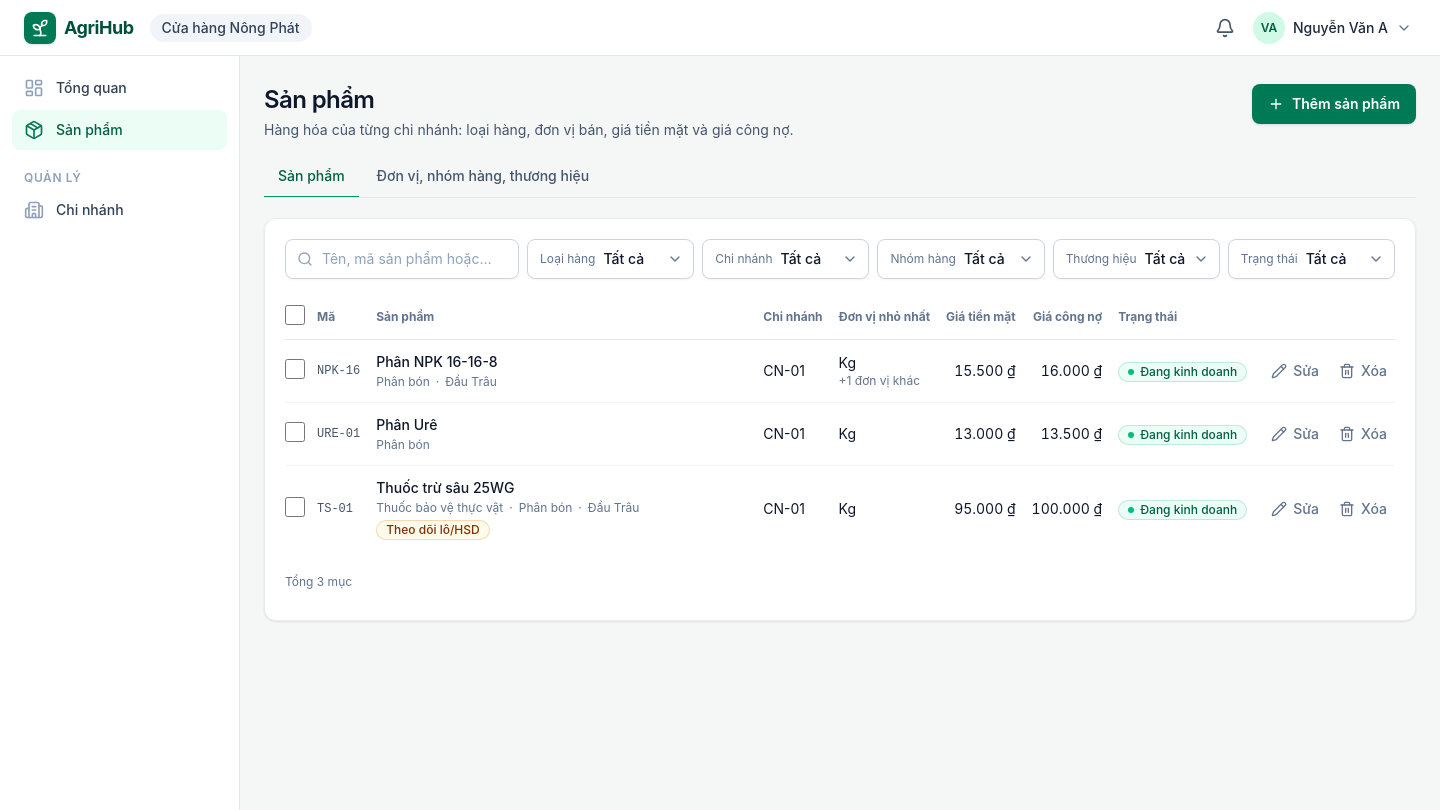
Test: danh sách sản phẩm › sao chép sang chi nhánh khác: gửi mã sản phẩm đã chọn và báo mã bị bỏ qua
Click the checkbox named "Chọn Phân NPK 16-16-8".
click(295, 368)  # box [285,358,305,378]
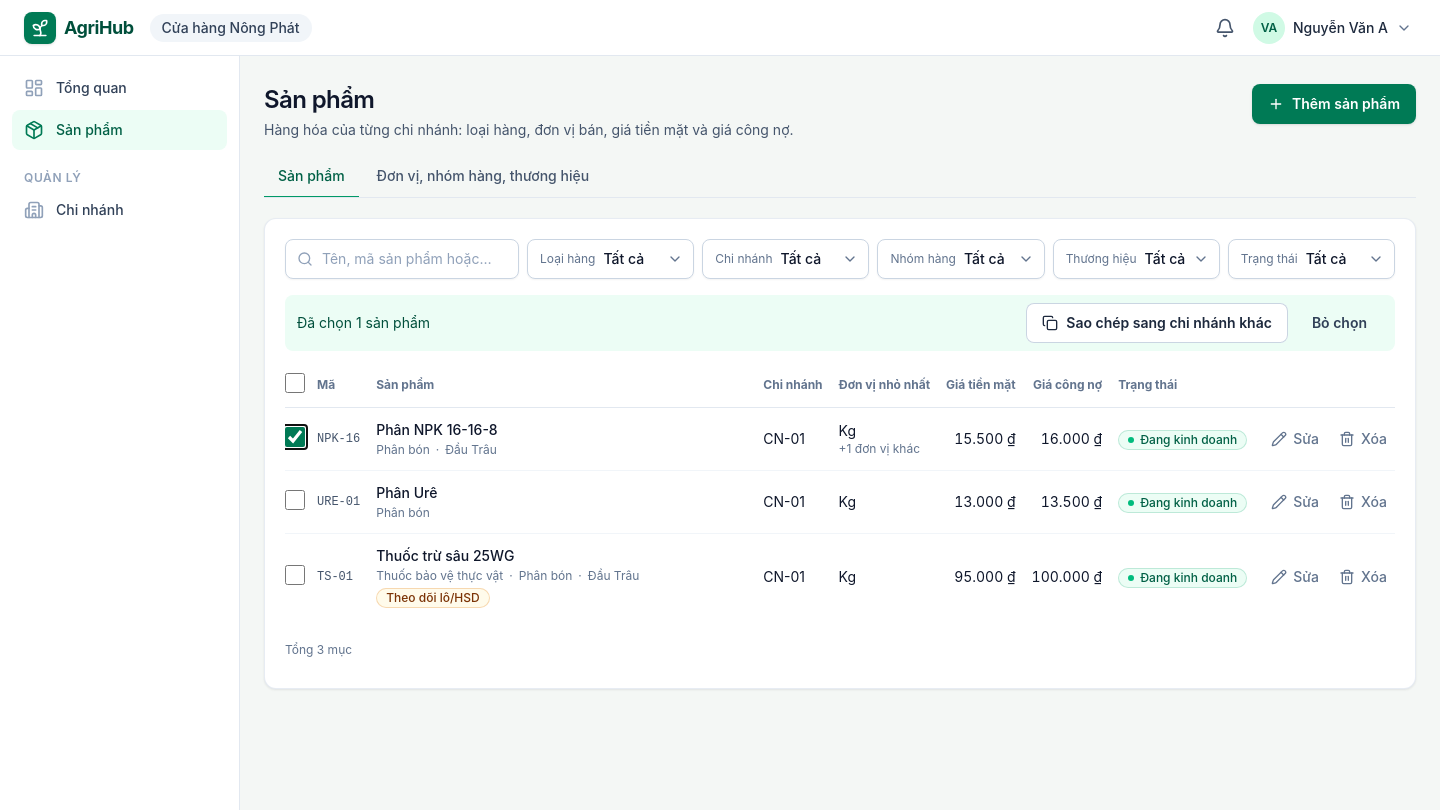
Click the checkbox named "Chọn Phân Urê".
click(295, 500)  # box [285,490,305,510]
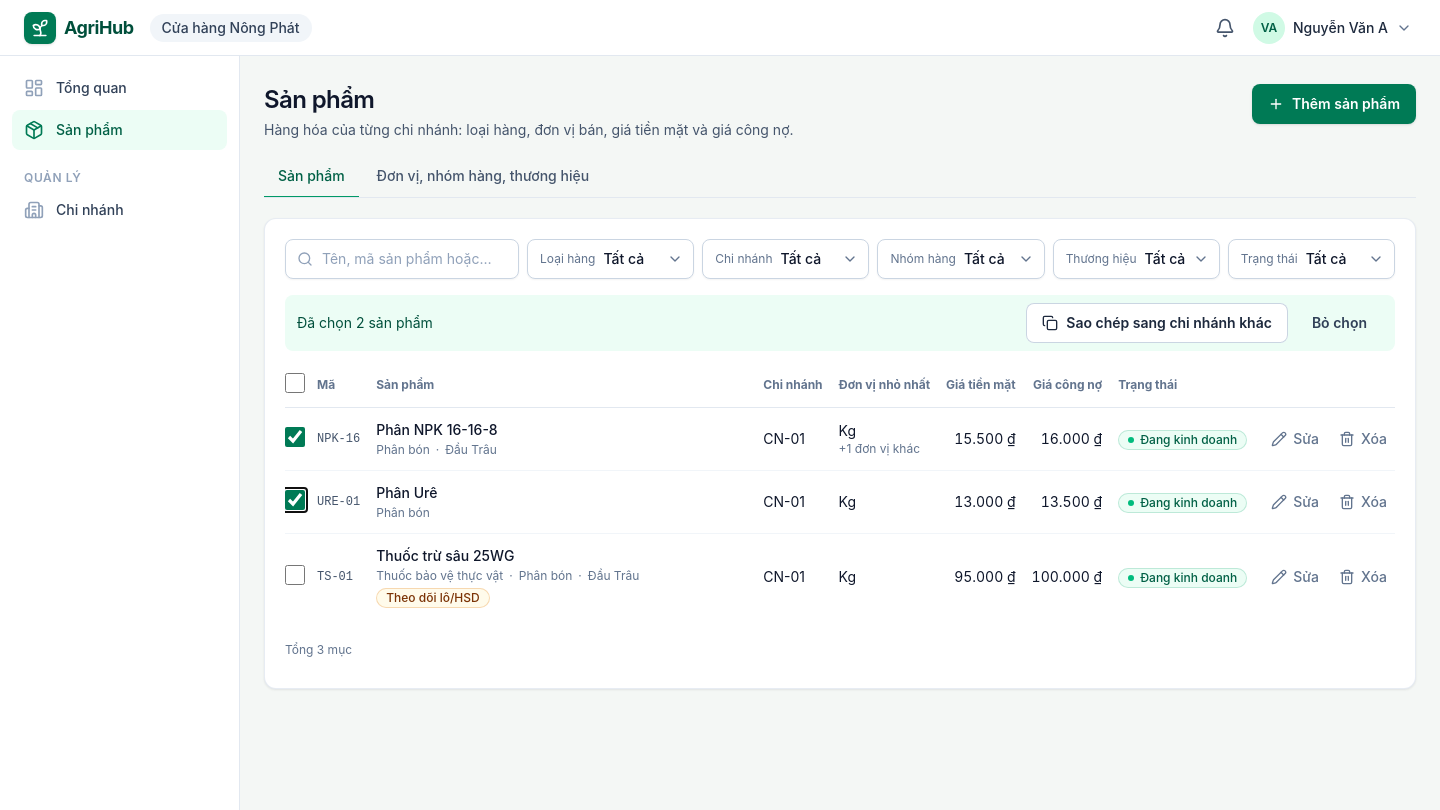
Now the text "Đã chọn 2 sản phẩm" is shown, box [297,313,433,333]
Click the button "Sao chép sang chi nhánh khác".
click(1157, 323)  # box [1026,303,1288,343]
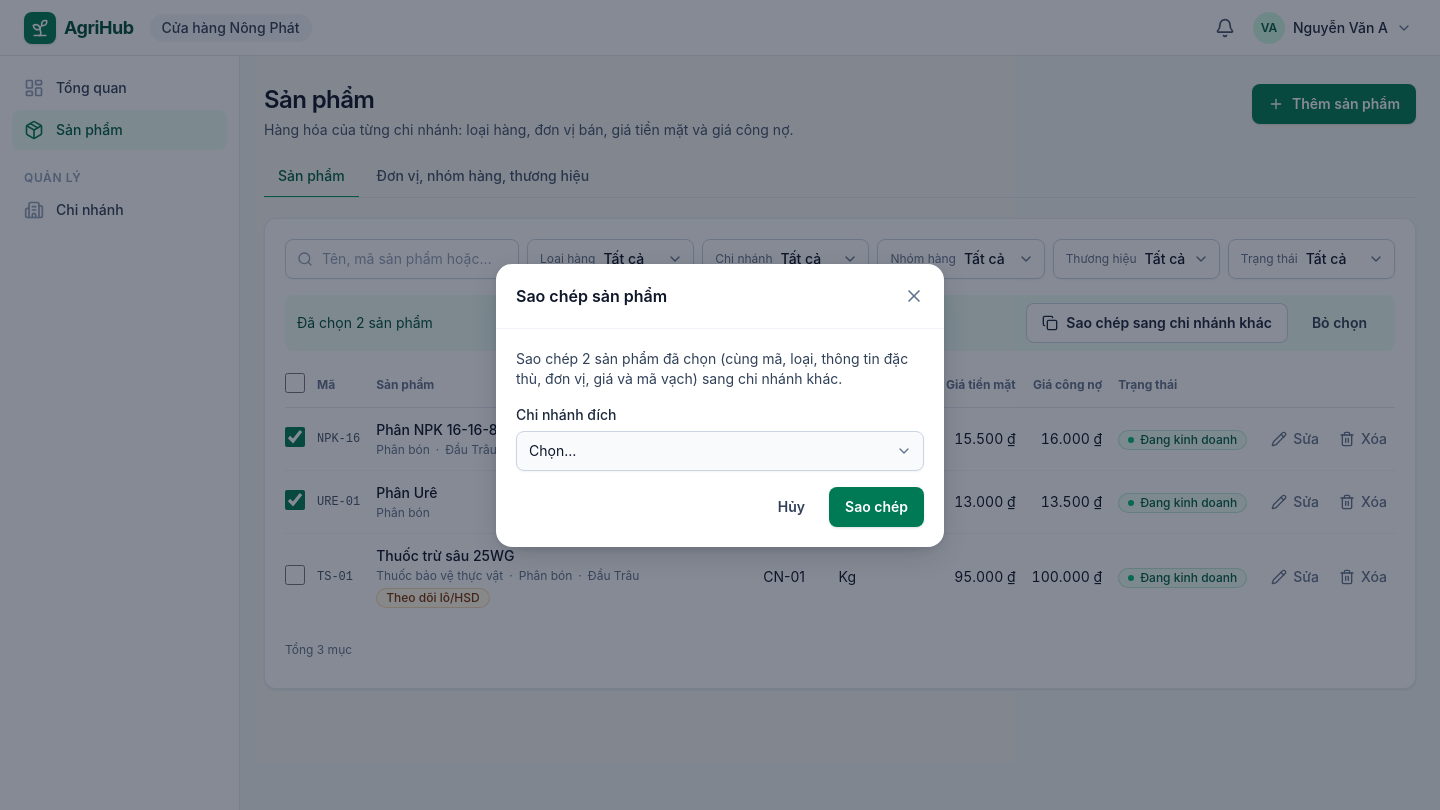
Click the button "Sao chép".
click(876, 506)  # box [829,486,924,526]
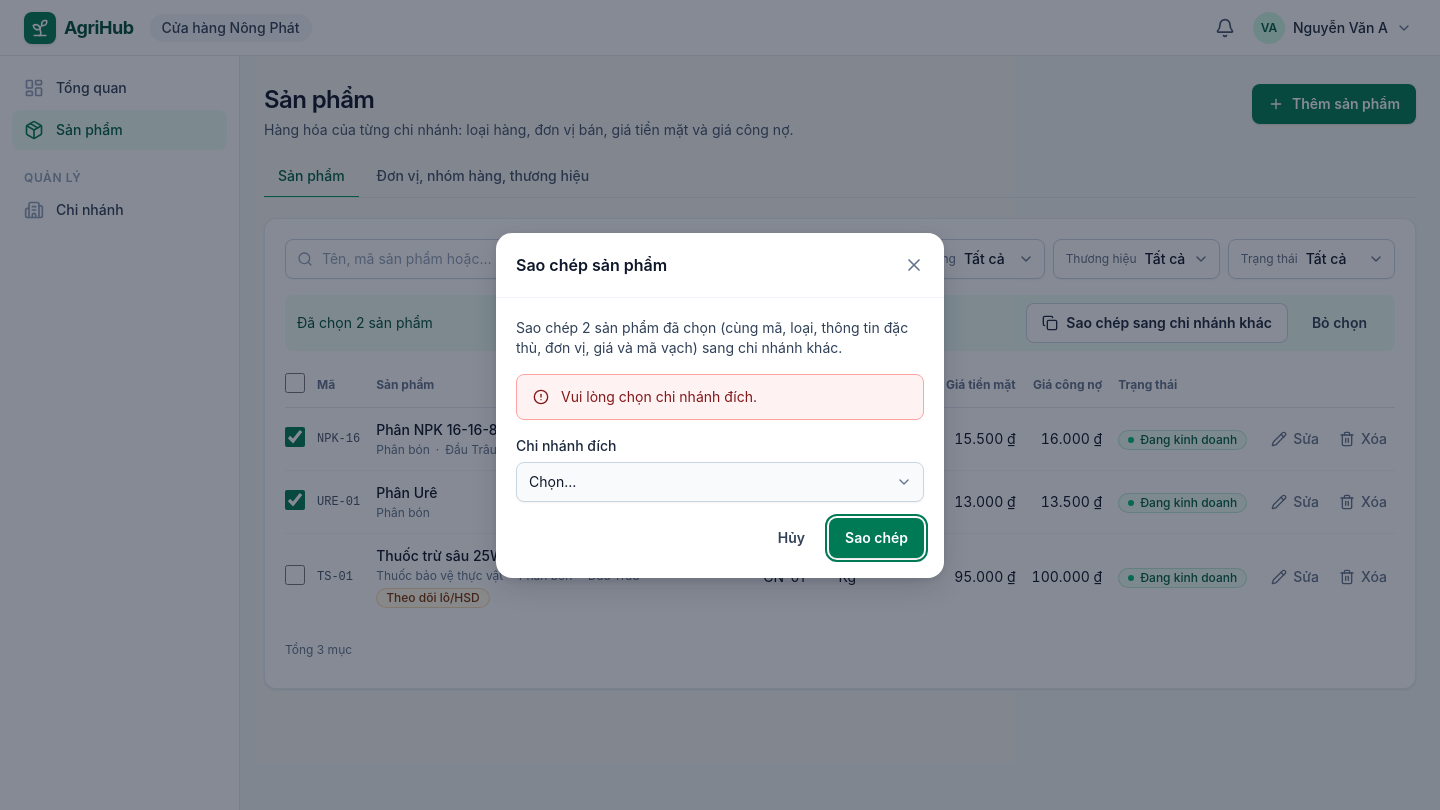
Now the text "Vui lòng chọn chi nhánh đích." is shown, box [561,388,757,404]
Select "HN-02 — Chi nhánh Hà Nội" in the dropdown labelled "Chi nhánh đích" at (720, 482), box [516,462,924,502]
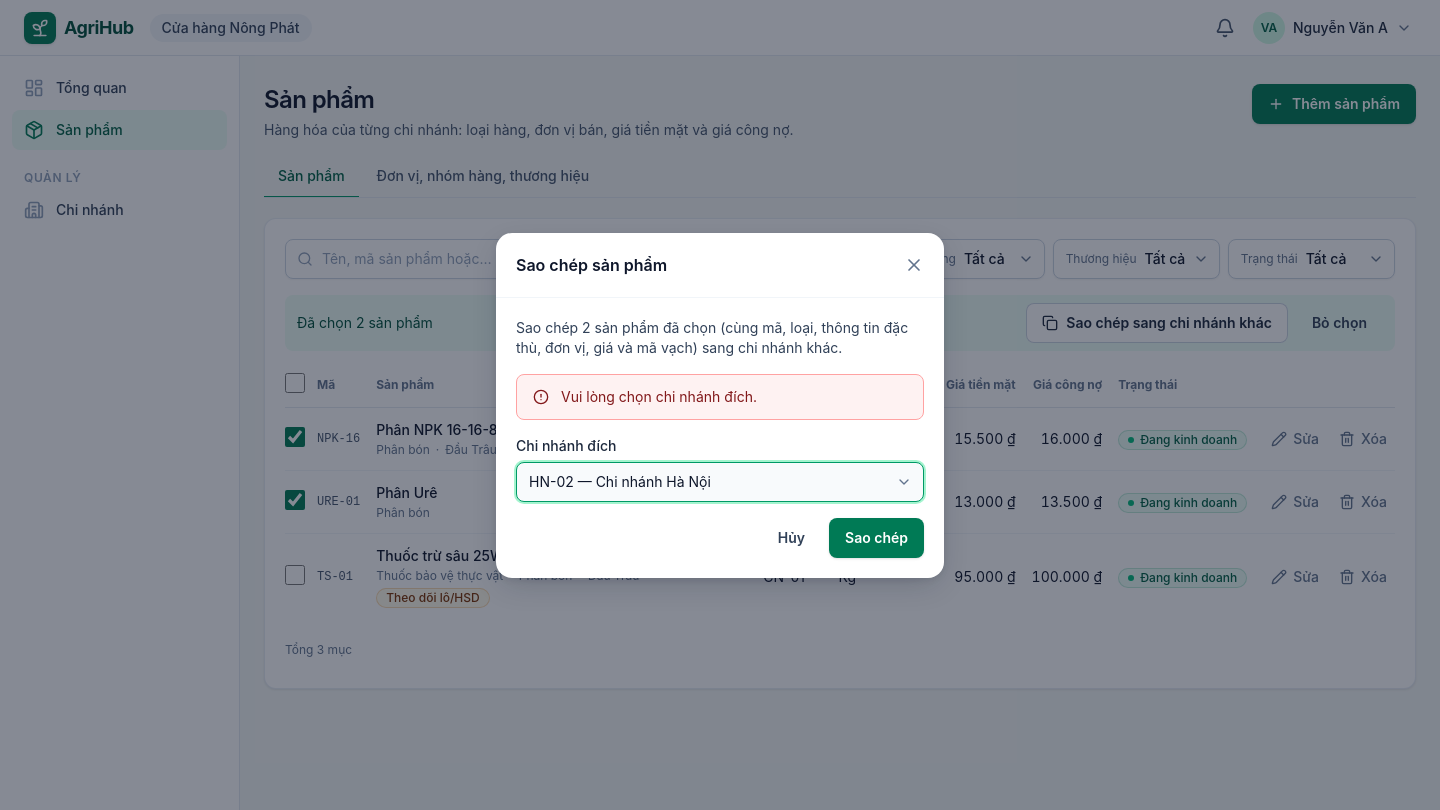
Click the button "Sao chép".
click(876, 538)  # box [829,518,924,558]
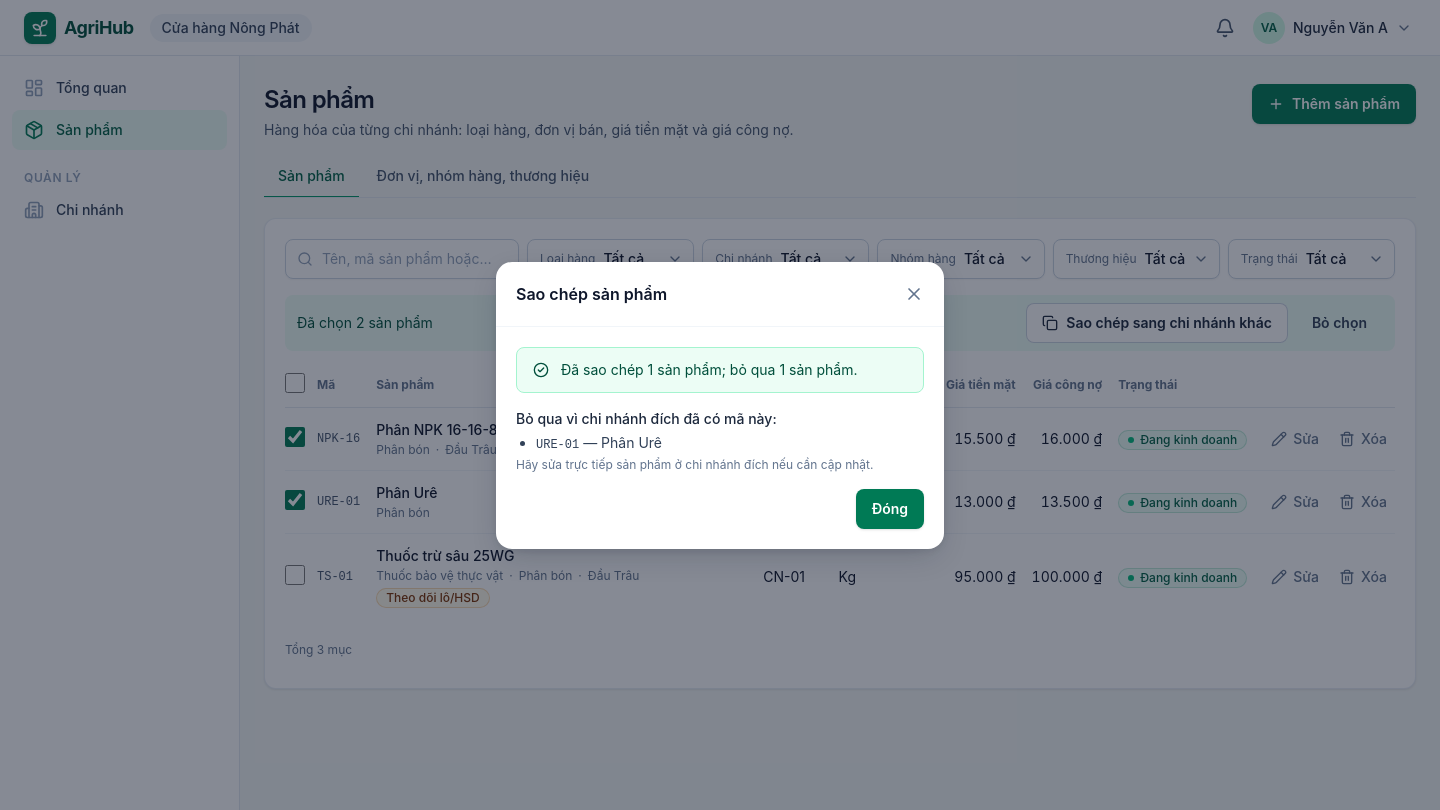
Now the text "Đã sao chép 1 sản phẩm; bỏ qua 1 sản phẩm." is shown, box [561,360,907,380]
Now the text "URE-01" is shown, box [536,438,579,452]
